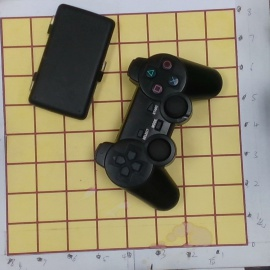remote: (113, 55, 230, 210)
